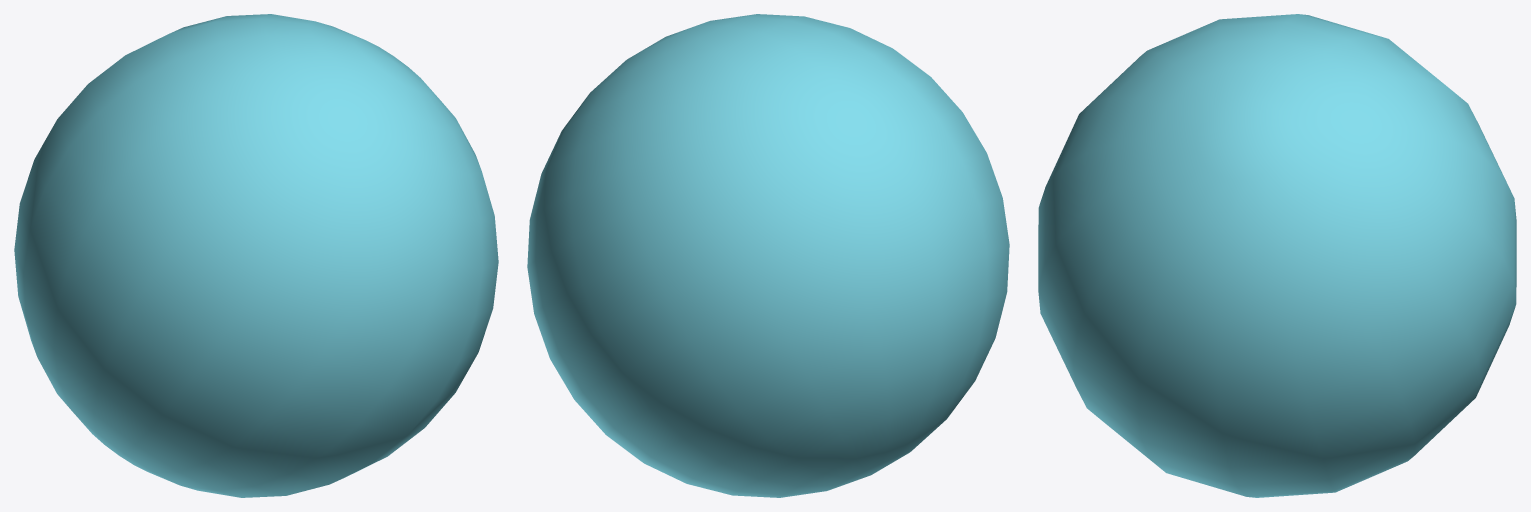
The picture shows the model from 3 angles, left to right: view 1: azimuth 30°, elevation 25°; view 2: azimuth 150°, elevation 25°; view 3: azimuth 270°, elevation 25°; orthographic projection.
Parts seen in each view (by area): view 1: orb4.009; view 2: orb4.009; view 3: orb4.009.
Part boxes in pixels (bbox=[...]): orb4.009: bbox=[14, 14, 498, 497]; orb4.009: bbox=[527, 14, 1009, 497]; orb4.009: bbox=[1038, 14, 1516, 497].
Size of the model in its own units: 0.3988 by 0.3996 by 0.3924.
